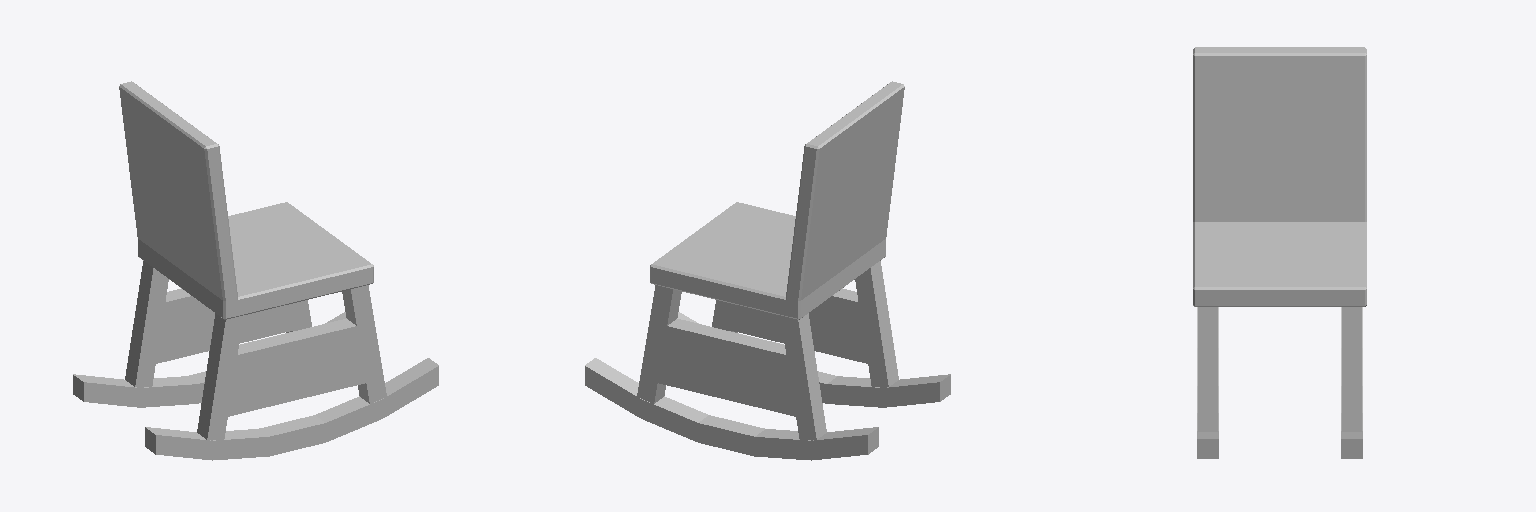
Rendered from chair-rock.obj.
3 renders of one model, left to right at view 1: azimuth 30°, elevation 25°; view 2: azimuth 150°, elevation 25°; view 3: azimuth 270°, elevation 25°, orthographic.
Parts seen in each view (by area): view 1: chair_Cube.002; view 2: chair_Cube.002; view 3: chair_Cube.002.
Boxes of the visible parts, x1=… form: chair_Cube.002: x1=73, y1=81, x2=438, y2=460; chair_Cube.002: x1=585, y1=81, x2=950, y2=460; chair_Cube.002: x1=1193, y1=47, x2=1366, y2=458.
Size of the model in its own units: 0.75 by 0.825 by 0.4.